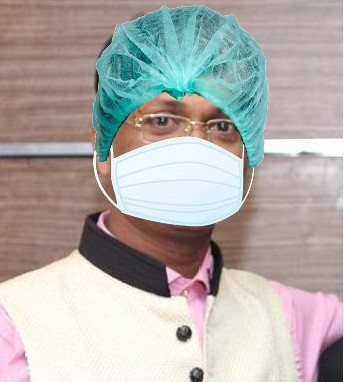with_mask_and_cap: (97, 5, 264, 222)
